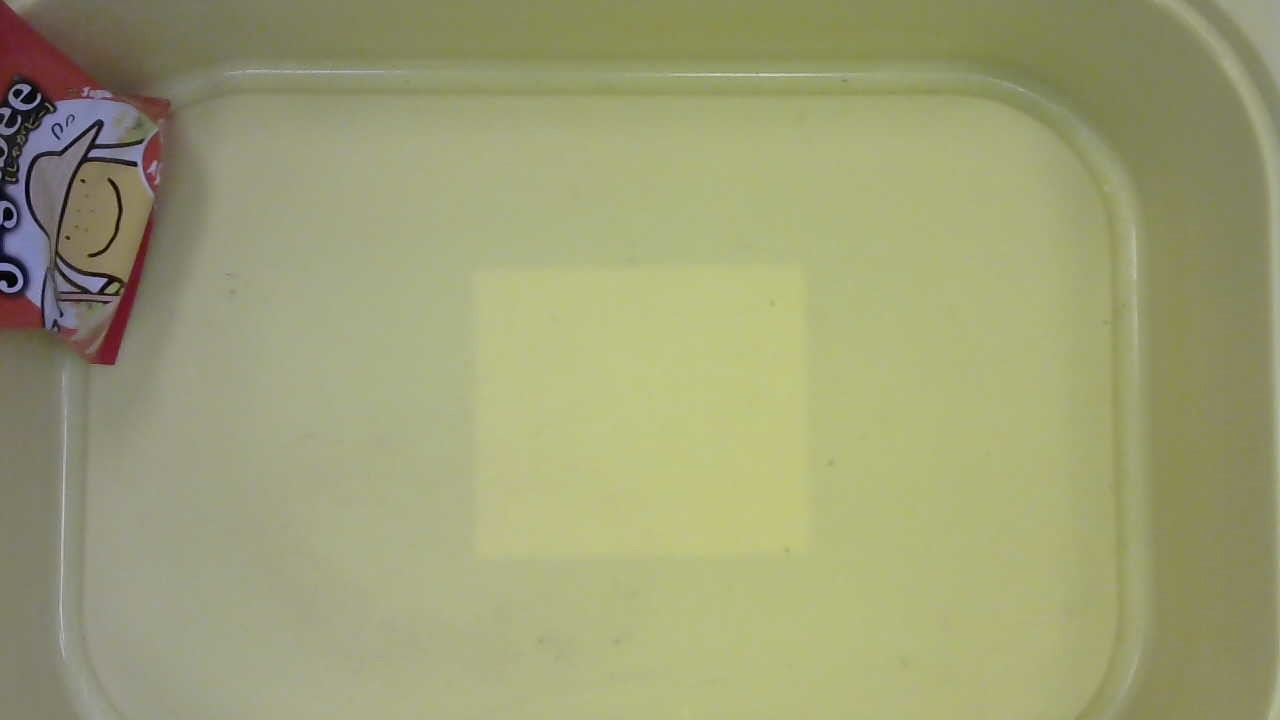JagabeeFarmer: (1, 1, 187, 390)
